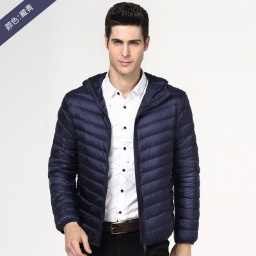face: (104, 1, 151, 76)
